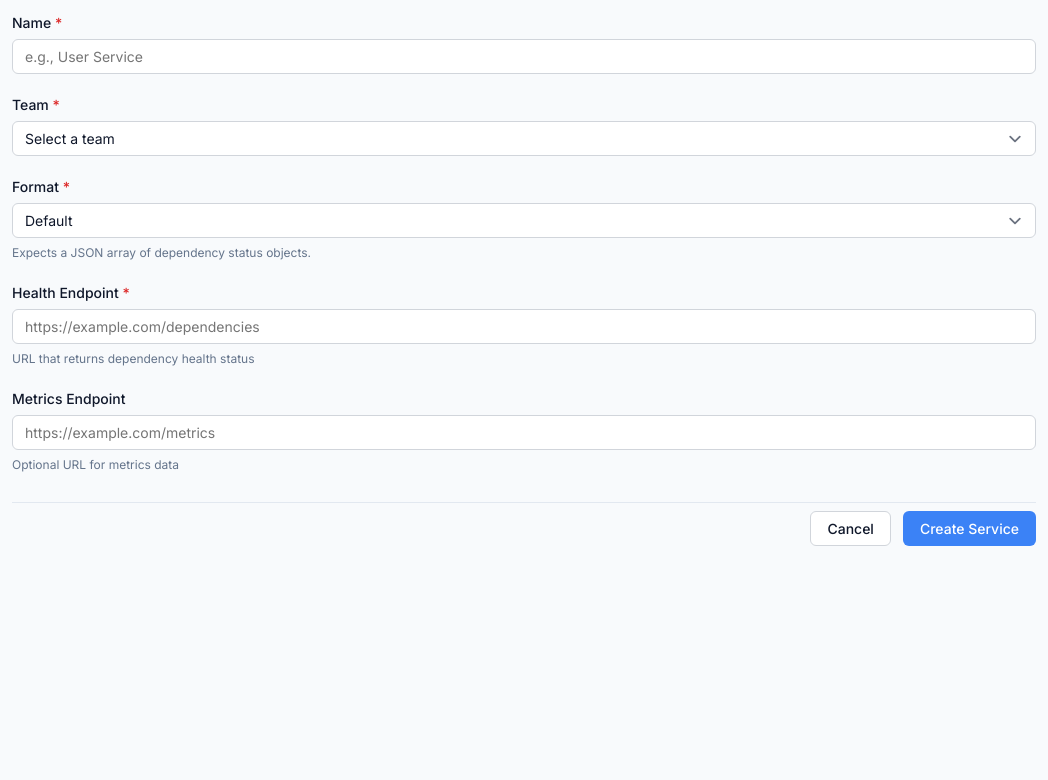
ServiceForm › handles non-Error exception
The width and height of the screenshot is (1048, 780).
Type "New Service" into the field labelled "Name *" at (524, 56), box [12,39,1036,74]
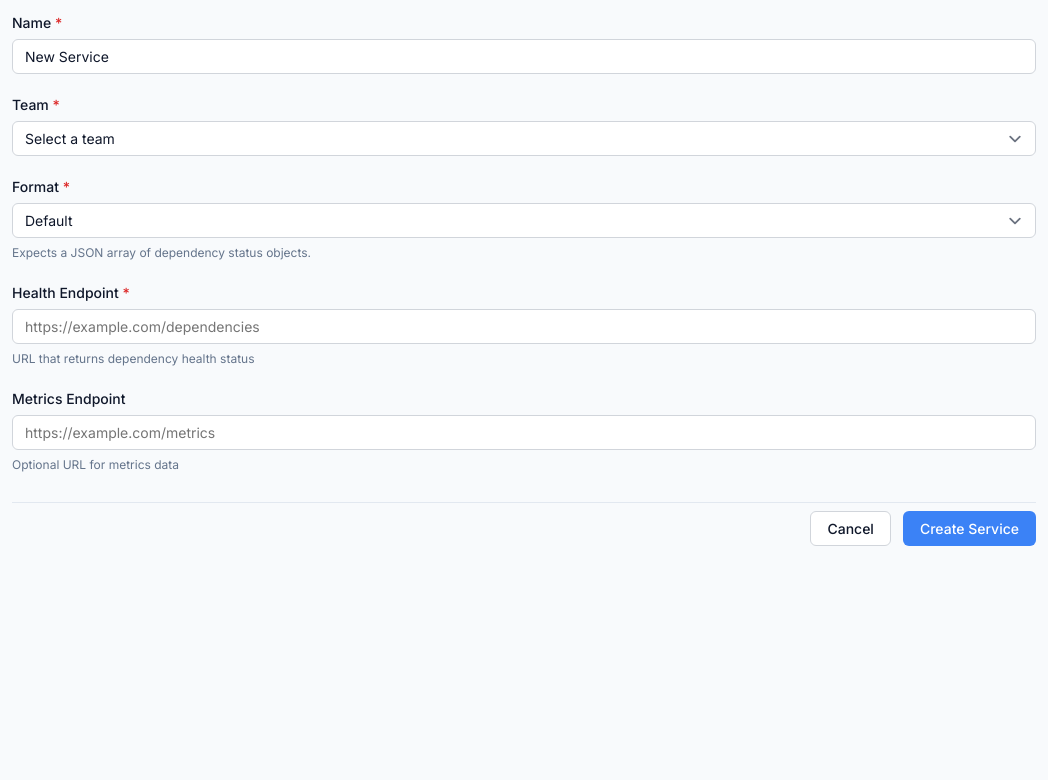
Select "Team A" in the dropdown labelled "Team *" at (524, 138), box [12,121,1036,156]
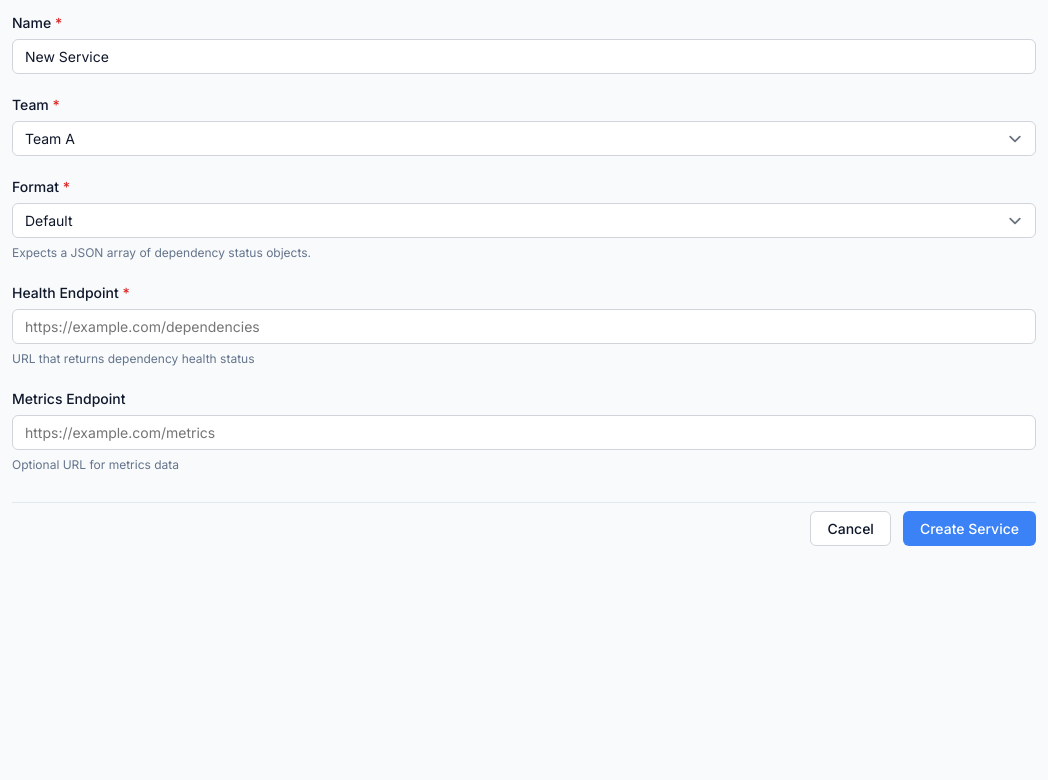
Type "https://example.com/health" into the field labelled "Health Endpoint *" at (524, 326), box [12,309,1036,344]
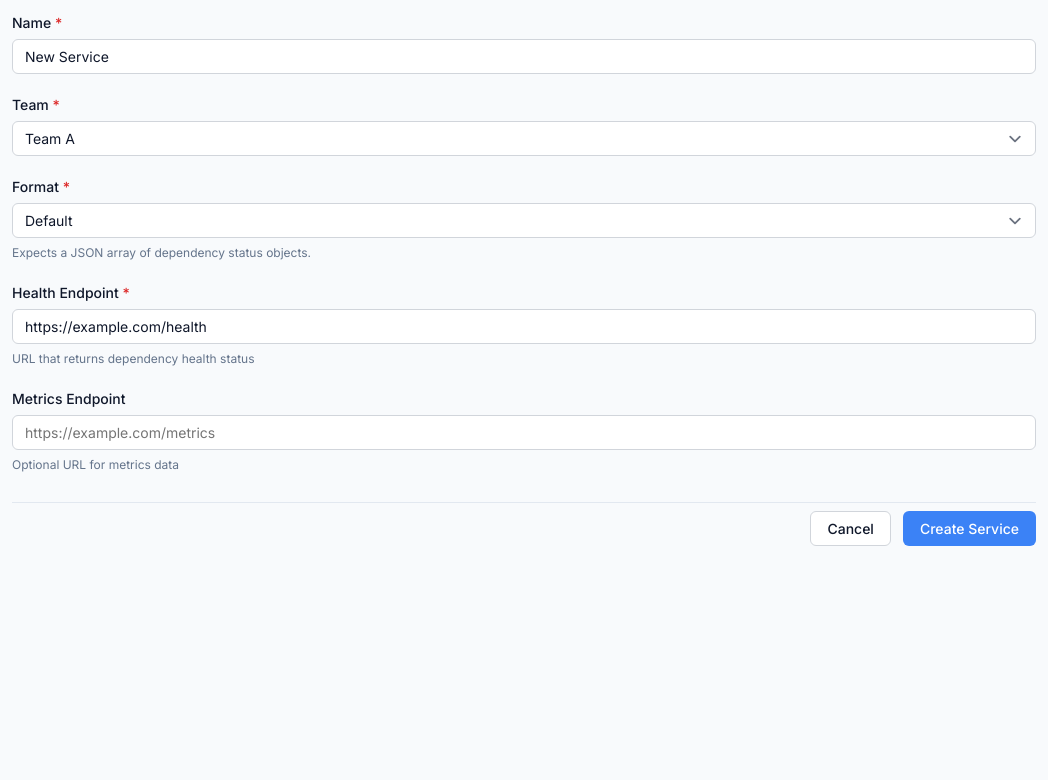
Click the button "Create Service" at (969, 528), box [903,511,1036,546]
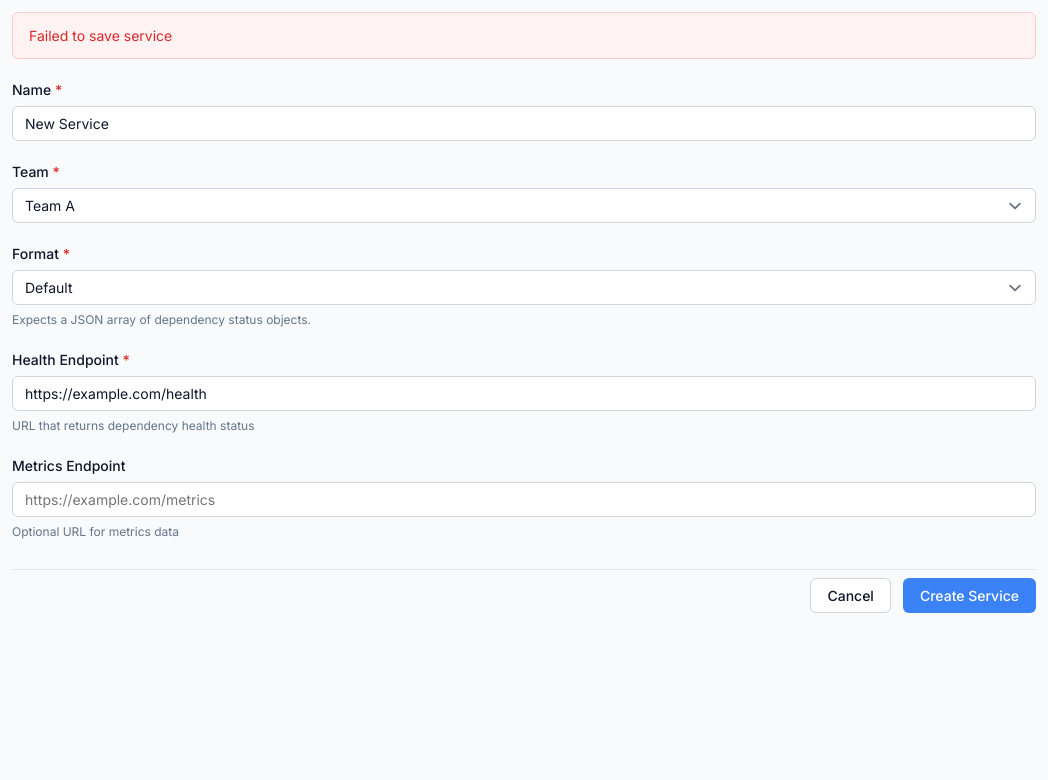
Expected: the text "Failed to save service" is shown, [12,12,1036,59]
